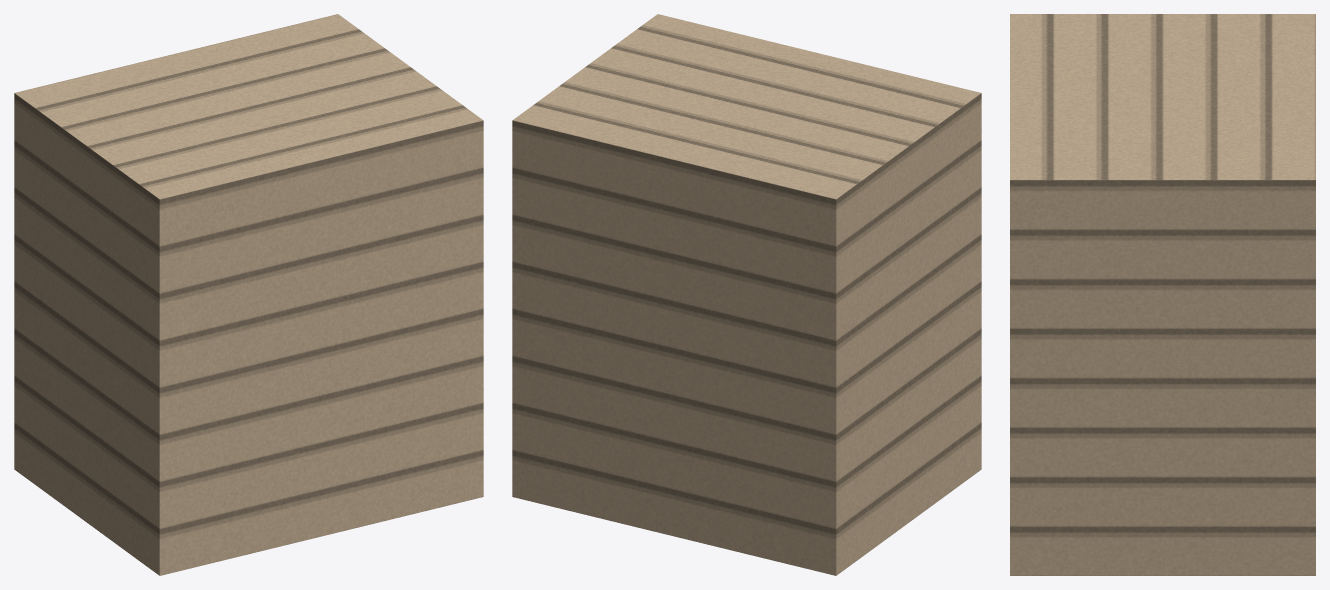
The model's file is pad_mounted_transformer.glb.
The picture shows the model from 3 angles, left to right: view 1: azimuth 30°, elevation 25°; view 2: azimuth 150°, elevation 25°; view 3: azimuth 270°, elevation 25°; orthographic projection. The views are drawn at different scales.
Visible parts, largest first — view 1: pad_mounted_transformer-col; view 2: pad_mounted_transformer-col; view 3: pad_mounted_transformer-col.
Part boxes in pixels (<box>): pad_mounted_transformer-col: <box>14,14,483,575</box>; pad_mounted_transformer-col: <box>512,14,981,575</box>; pad_mounted_transformer-col: <box>1010,14,1315,575</box>.
Bounding box in the file's own units: 0.9 × 1 × 0.7.
1 material, 1 textured.
